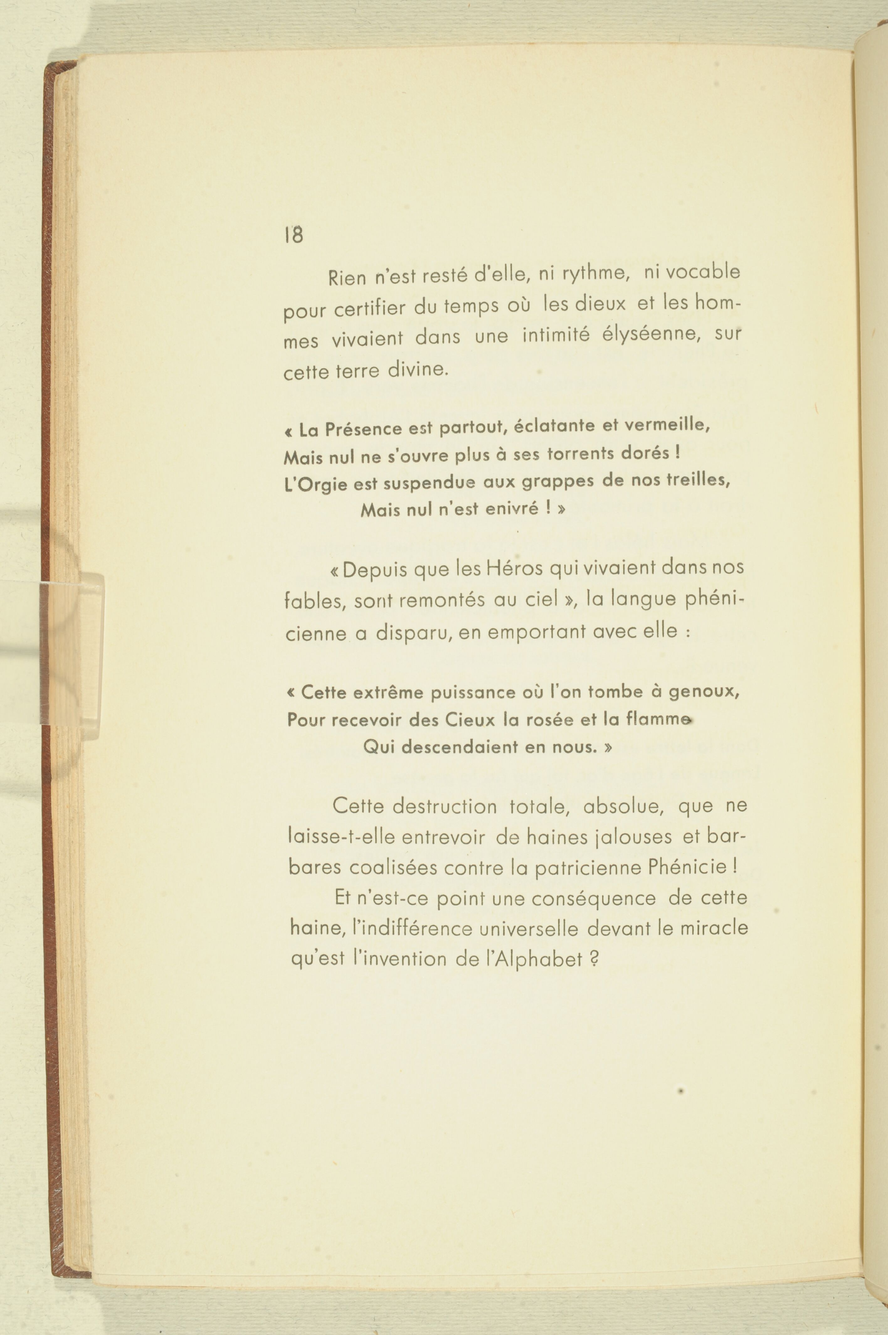LigneDeProse: (284, 580, 771, 612), (261, 854, 764, 884), (267, 320, 744, 351), (297, 886, 774, 917), (268, 619, 733, 649), (278, 291, 751, 320), (322, 789, 769, 818), (285, 557, 768, 583), (283, 263, 722, 291), (264, 824, 772, 848), (283, 919, 764, 944), (292, 945, 610, 975), (274, 348, 464, 394)
N°Page: (269, 211, 330, 254)
Vers: (270, 409, 720, 441), (241, 679, 783, 704), (279, 470, 746, 499), (286, 440, 685, 469), (327, 730, 657, 765), (271, 707, 717, 731), (345, 500, 576, 527)
